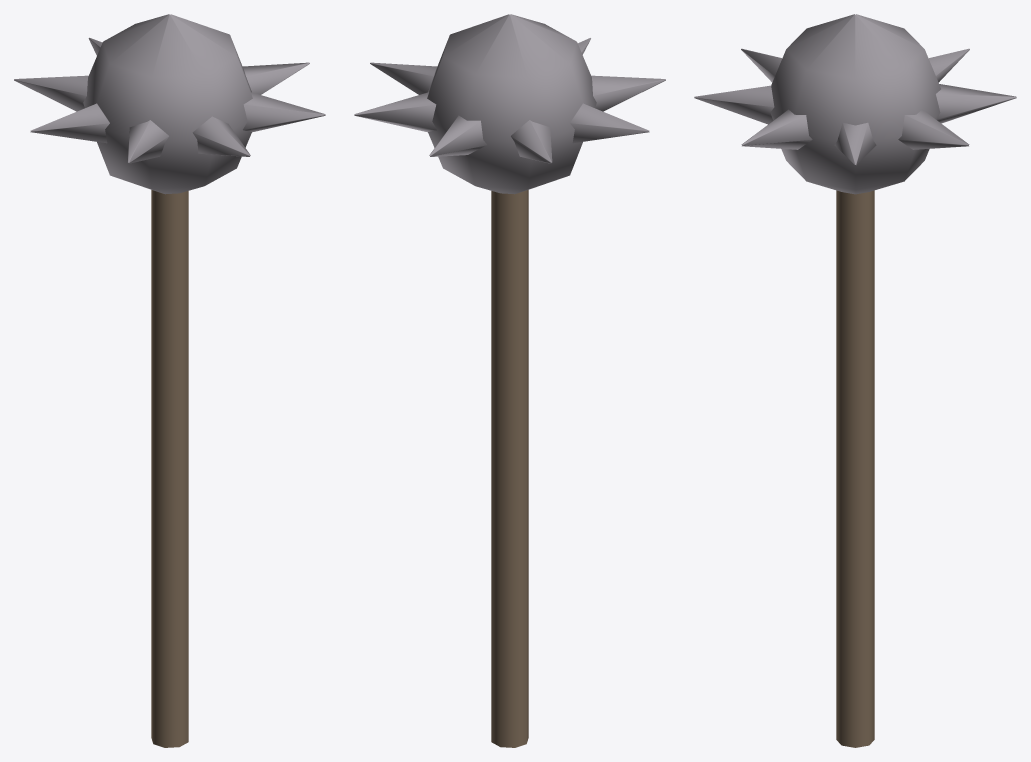
The model's file is Mace.glb.
3 views of the same model, side by side, from view 1: azimuth 30°, elevation 25°; view 2: azimuth 150°, elevation 25°; view 3: azimuth 270°, elevation 25° (orthographic).
Parts seen in each view (by area): view 1: Mace; view 2: Mace; view 3: Mace.
Part boxes in pixels (x1,y1,x2,y2): Mace: [14, 14, 325, 747]; Mace: [354, 14, 665, 747]; Mace: [694, 14, 1016, 747].
Bounding box in the file's own units: 0.4191 × 1.04 × 0.4191.
